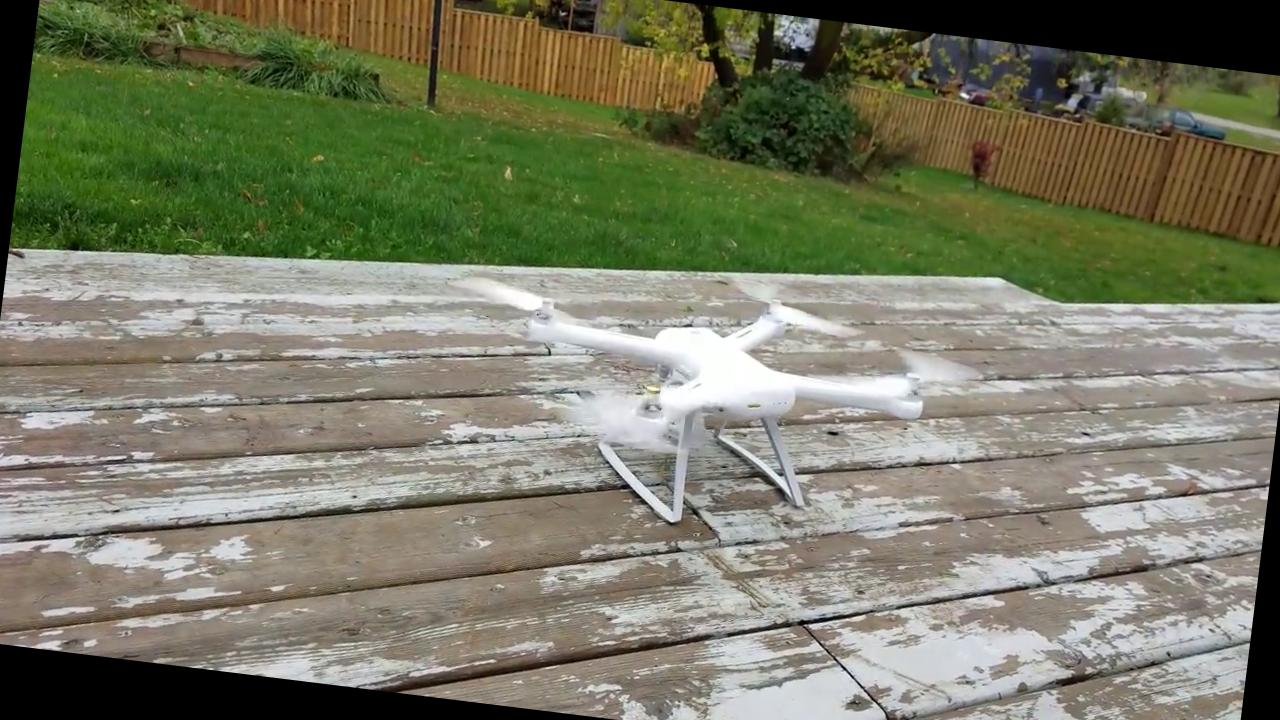drone: (438, 232, 990, 496)
